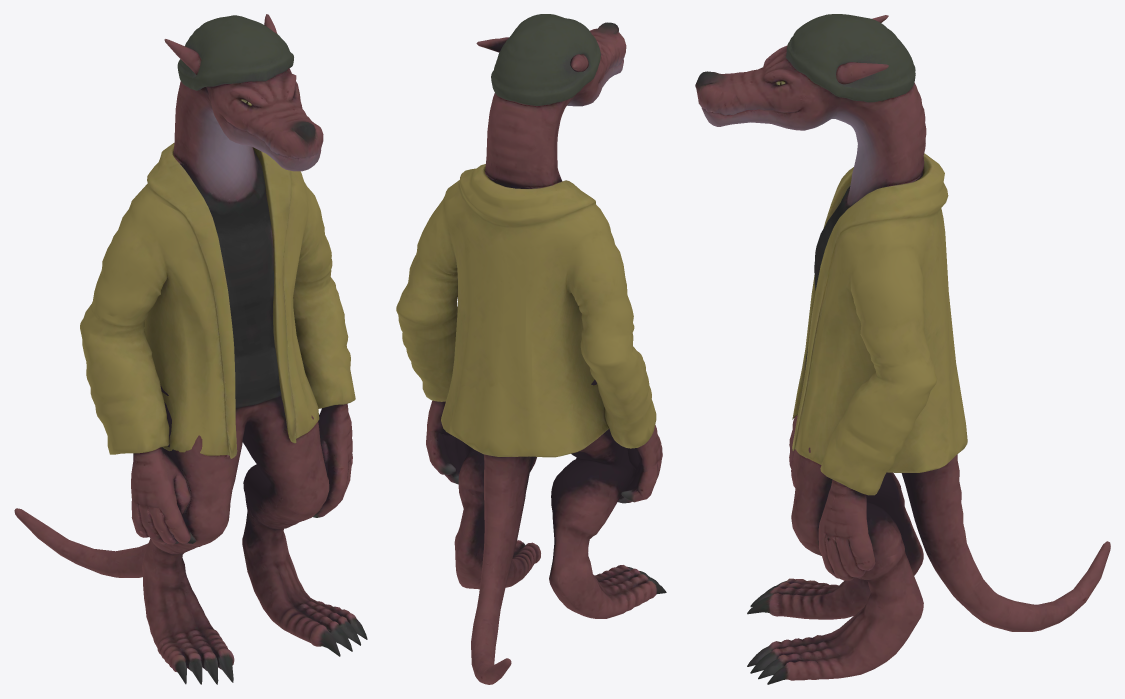
File: MZ4250 - Kobold Slacker Jay.glb
3 renders of one model, left to right at view 1: azimuth 30°, elevation 25°; view 2: azimuth 150°, elevation 25°; view 3: azimuth 270°, elevation 25°, orthographic. The views are drawn at different scales.
Parts seen in each view (by area): view 1: Kobold Based body for rigging.001; view 2: Kobold Based body for rigging.001; view 3: Kobold Based body for rigging.001.
Boxes of the visible parts, left/top/right/bottom form: Kobold Based body for rigging.001: left=14, top=14, right=367, bottom=684; Kobold Based body for rigging.001: left=396, top=14, right=666, bottom=684; Kobold Based body for rigging.001: left=695, top=14, right=1110, bottom=684.
Size of the model in its own units: 0.6227 by 1.47 by 0.887.
3 materials, 3 textured.
